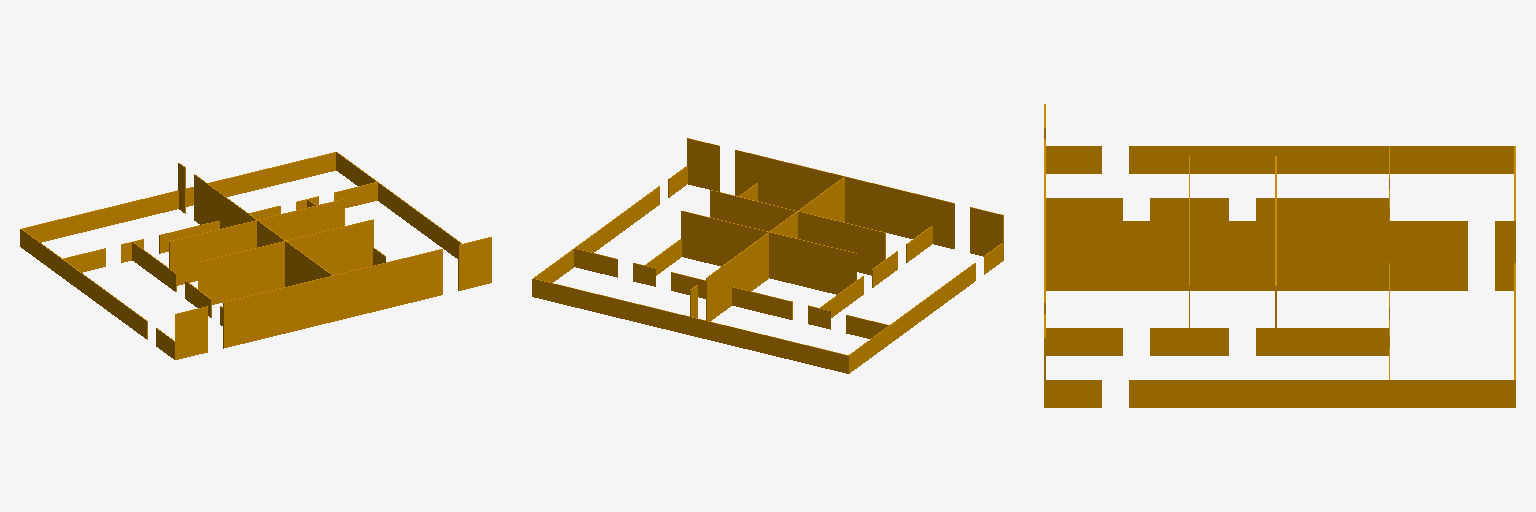
URDF robot description (robocup_house):
<robot name="robocup_house">
  <link name="robocup_house">

    <inertial>
      <!-- center of mass (com) is defined w.r.t. link local coordinate system -->
      <origin xyz="0 0 0" />
      <mass value="1000"/>
	  <inertia ixx="9.9999999999999995e-07"  ixy="0"  ixz="0" iyy="9.9999999999999995e-07" iyz="0" izz="9.9999999999999995e-07" />
    </inertial>
    
    <visual>
      <!-- visual origin is defined w.r.t. link local coordinate system -->
      <origin xyz="0 0 0" rpy="0 0 0" />
      <geometry>
        <mesh filename="package://robocup_worlds/Media/models/robocup_house.stl" scale="1 1 1"/>
      </geometry>
    </visual>

    <collision>
      <!-- collision origin is defined w.r.t. link local coordinate system -->
      <origin xyz="0 0 0" rpy="0 0 0" />
      <geometry>
        <mesh filename="package://robocup_worlds/Media/models/robocup_house.stl" scale="1 1 1"/>
      </geometry>
    </collision>

  </link>

  <gazebo reference="robocup_house">
    <material>Custom/wall</material>
    <static>true</static>
    <turnGravityOff>true</turnGravityOff>
  </gazebo>

  <gazebo>
    <static>true</static>
  </gazebo>

</robot>

--- Render facts (derived) ---
The picture shows the robot from 3 angles, left to right: view 1: azimuth 30°, elevation 25°; view 2: azimuth 150°, elevation 25°; view 3: azimuth 270°, elevation 25°; orthographic projection.
Model robocup_house with 1 links and 0 joints (none), rooted at robocup_house, posed all joints at 0.
Links seen in each view (by area): view 1: robocup_house; view 2: robocup_house; view 3: robocup_house.
Link boxes in pixels (<box>): robocup_house: <box>20,152,491,359</box>; robocup_house: <box>532,138,1003,373</box>; robocup_house: <box>1044,104,1515,407</box>.
Bounding box of the posed robot: 14.4 × 12.2 × 2 m (x, y, z).
1 mesh visuals loaded from 1 distinct referenced files (1 binary STL).